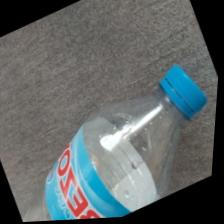plastic: (0, 45, 223, 223)
